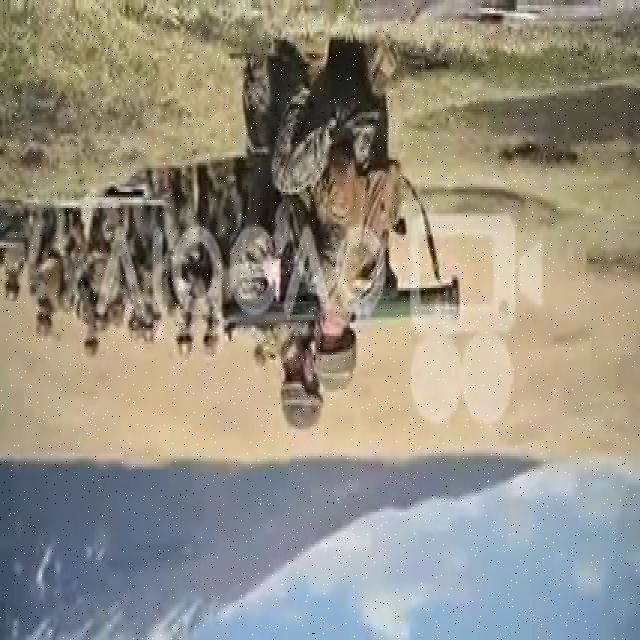bazooka: (218, 265, 472, 350)
